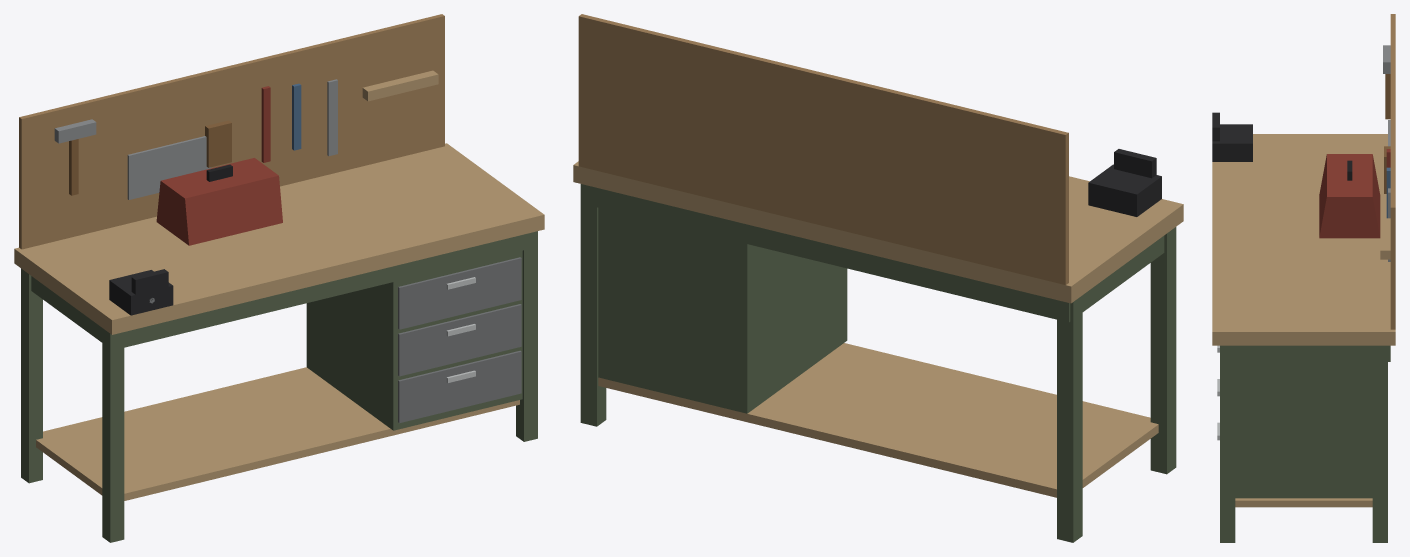
Rendered from workbench.glb.
3 views of the same model, side by side, from view 1: azimuth 30°, elevation 25°; view 2: azimuth 150°, elevation 25°; view 3: azimuth 270°, elevation 25° (orthographic). The views are drawn at different scales.
Visible parts, largest first — view 1: workbench; view 2: workbench; view 3: workbench.
Part boxes in pixels (bbox=[...]): workbench: bbox=[14, 14, 544, 542]; workbench: bbox=[573, 14, 1183, 542]; workbench: bbox=[1212, 14, 1395, 542].
Size of the model in its own units: 1.84 by 1.45 by 0.72.
